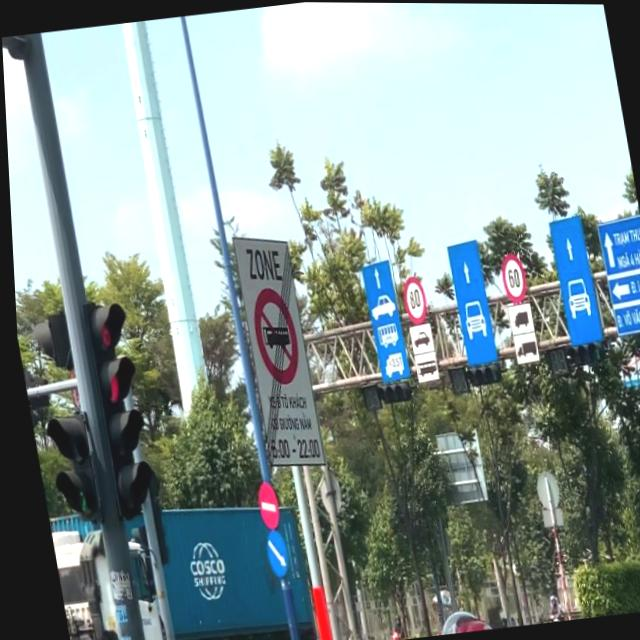Cam di nguoc chieu: (250, 480, 277, 530)
Toc do toi da cho phep: (495, 250, 527, 304), (397, 274, 428, 326)
Vong chuong ngai vat sang phai: (257, 527, 285, 579)
